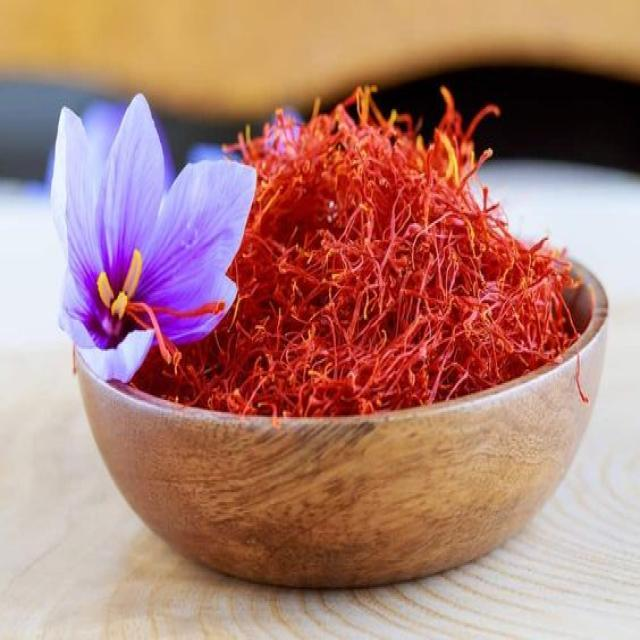Flower: (52, 96, 256, 382)
stigma: (118, 288, 234, 320), (144, 308, 185, 368)
